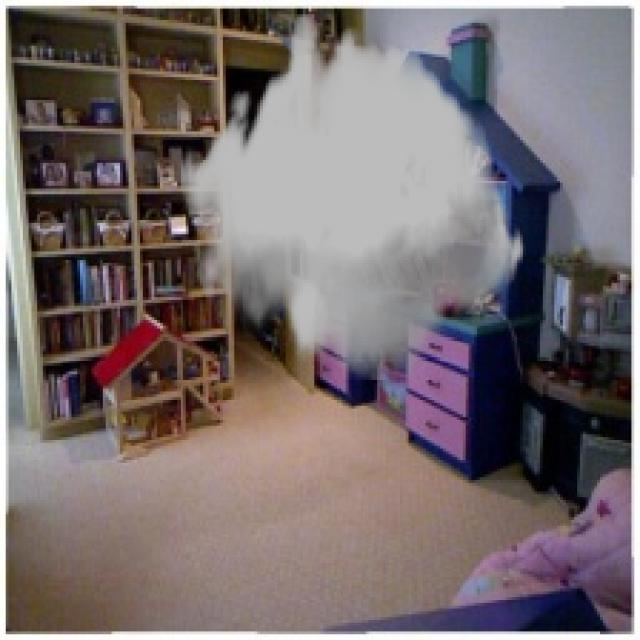smoke: (177, 14, 526, 380)
